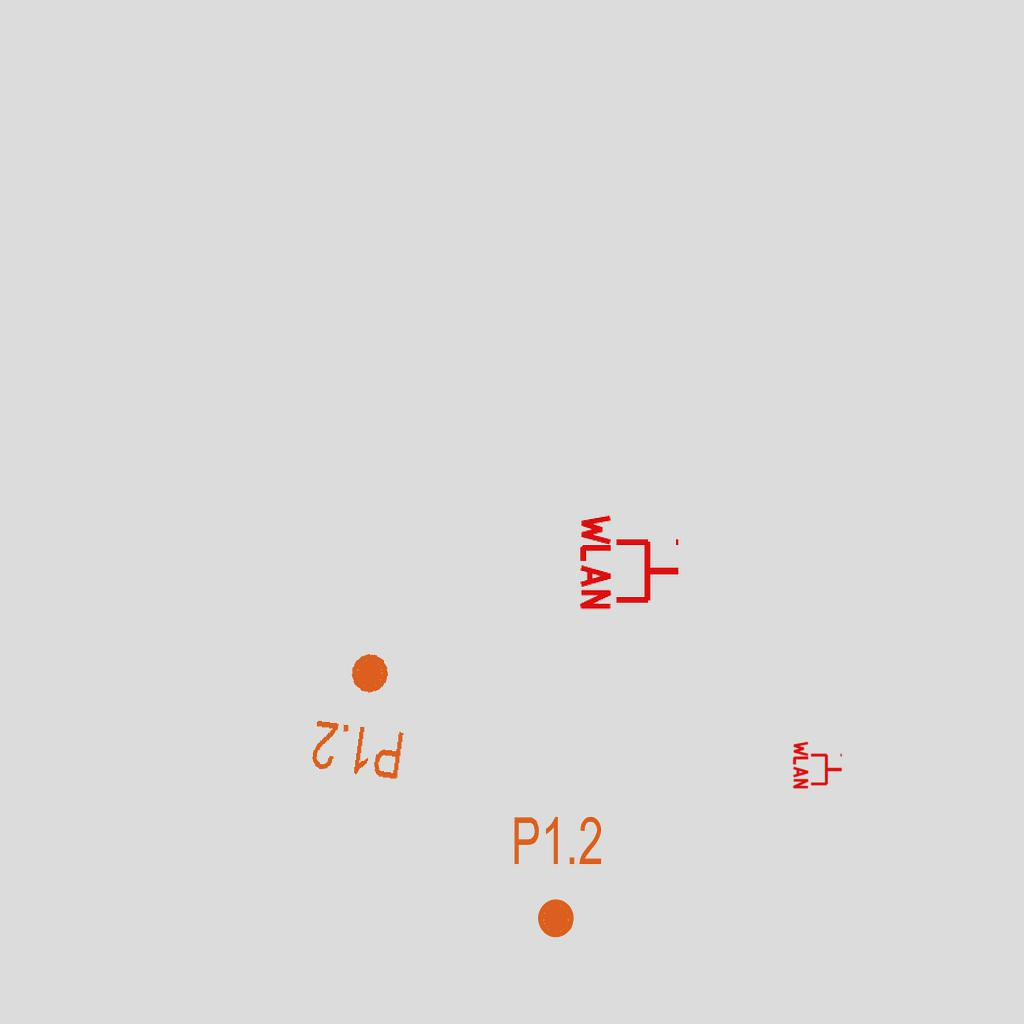Downlight_LED_Einbauleuchten_Flur: (307, 644, 418, 784), (511, 813, 604, 941)
WLAN: (578, 510, 683, 614), (792, 739, 844, 791)
